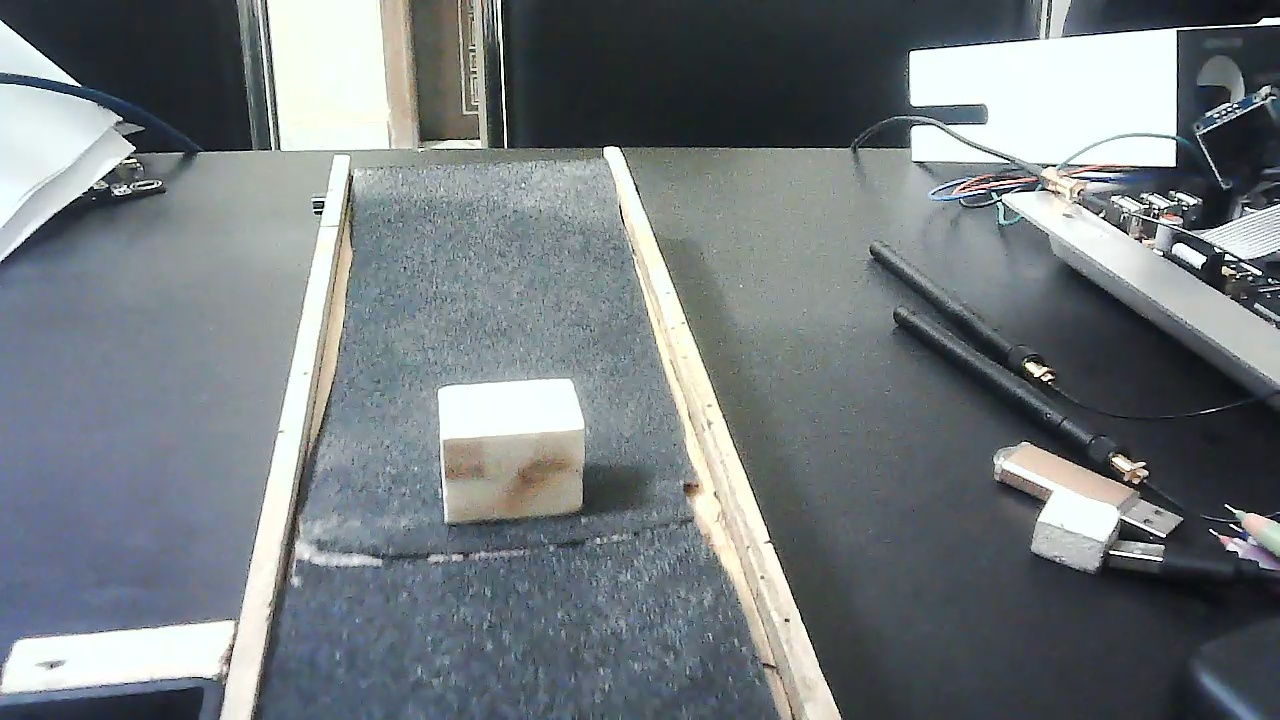Medium: (436, 373, 586, 523)
